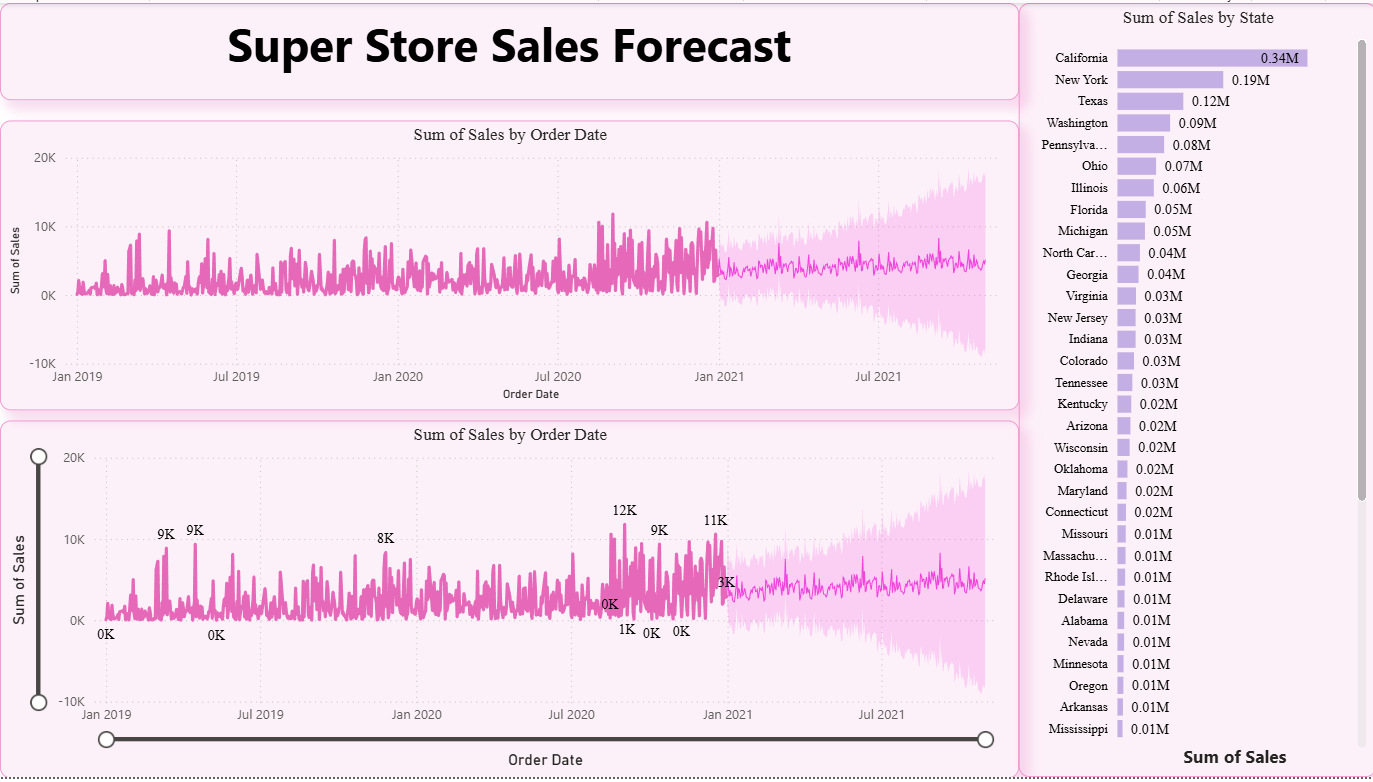

The page's visual inventory and layout, read from the dashboard file:
{"tool":"powerbi","page":{"name":"Page 2","canvas":[1280,720],"ordinal":1},"visuals":[{"type":"lineChart","fields":{"Y":["Sum(SuperStore_Sales_Dataset.Sales)"],"Category":["SuperStore_Sales_Dataset.Order Date"]},"box":[0,109.6,947.8,270],"z":0},{"type":"lineChart","fields":{"Y":["Sum(SuperStore_Sales_Dataset.Sales)"],"Category":["SuperStore_Sales_Dataset.Order Date"]},"box":[0,387.8,947.8,332.4],"z":1},{"type":"clusteredBarChart","fields":{"Category":["SuperStore_Sales_Dataset.State"],"Y":["Sum(SuperStore_Sales_Dataset.Sales)"]},"box":[947.8,0,332.4,720.3],"z":2},{"type":"textbox","box":[0,0,947.8,90.8],"z":3}]}

Visuals, with their boxes in screenshot pixels (x1, y1, x2, y2), scaled from the page's 1280x720 canvas onto the 1373x782 screenshot:
lineChart - Sum(SuperStore_Sales_Dataset.Sales) x SuperStore_Sales_Dataset.Order Date: l=0, t=119, r=1017, b=412
lineChart - Sum(SuperStore_Sales_Dataset.Sales) x SuperStore_Sales_Dataset.Order Date: l=0, t=421, r=1017, b=781
clusteredBarChart - SuperStore_Sales_Dataset.State x Sum(SuperStore_Sales_Dataset.Sales): l=1017, t=0, r=1372, b=781
textbox: l=0, t=0, r=1017, b=99
